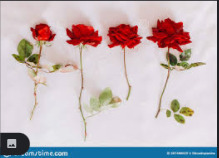RedRose: (62, 15, 106, 51), (150, 14, 191, 52), (24, 19, 60, 47), (109, 22, 140, 51)
